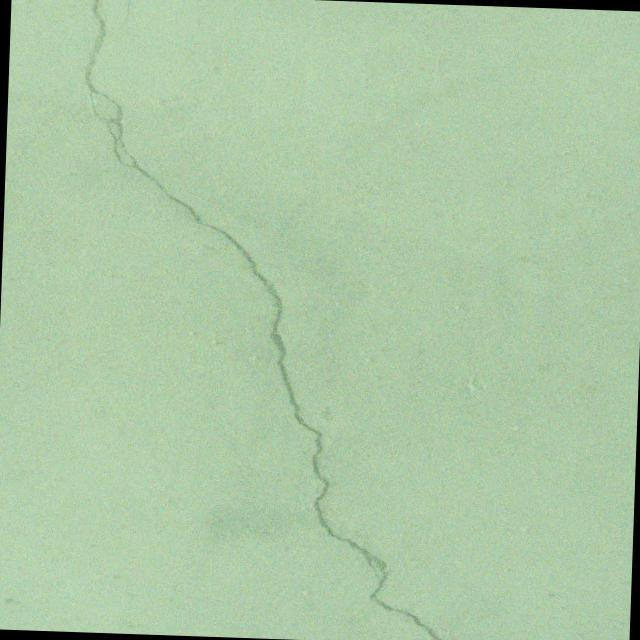crack: (64, 0, 470, 640), (110, 0, 131, 33)
